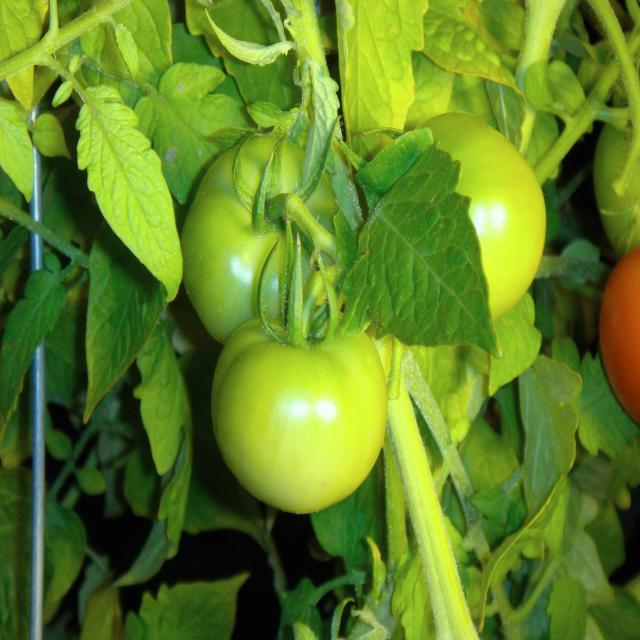yesil: (153, 60, 533, 518)
